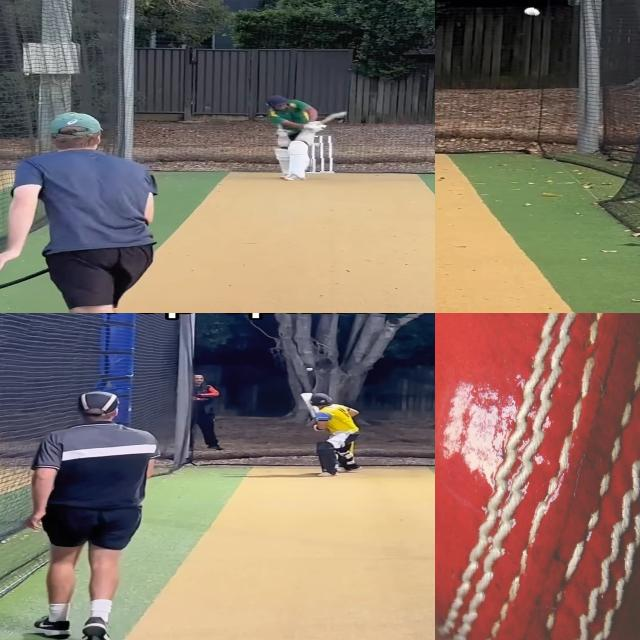Cricket ball: (435, 313, 640, 640), (525, 6, 541, 17), (312, 142, 320, 148), (306, 368, 313, 372)
Stumps: (309, 136, 334, 176)
